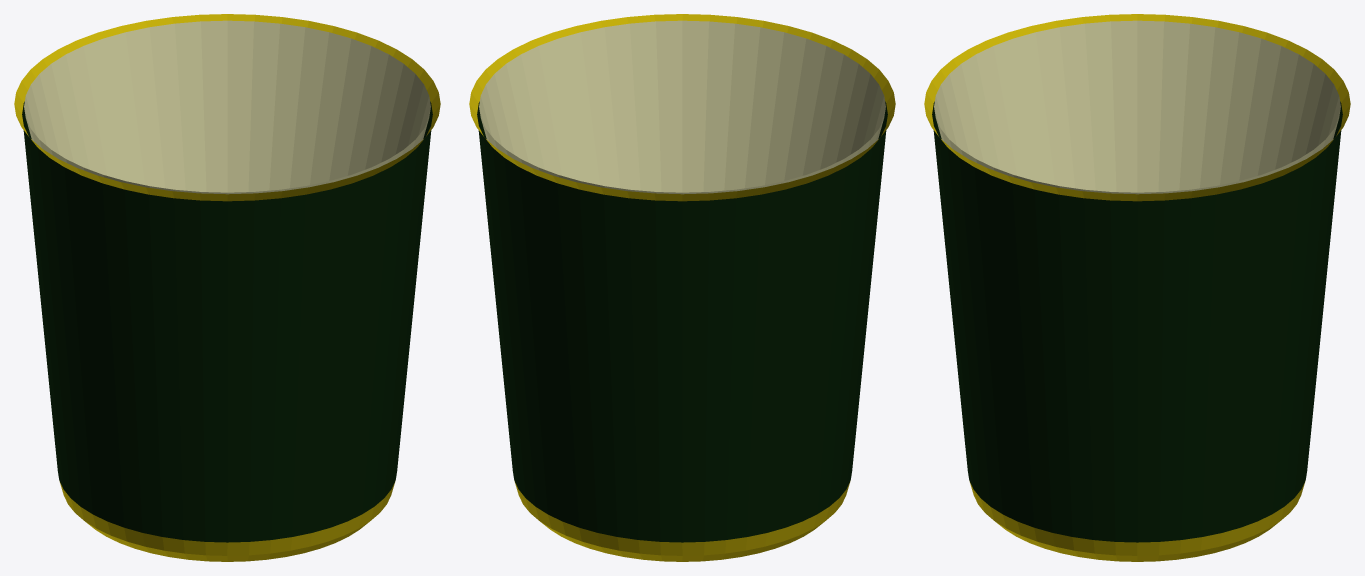
The model's file is cup.obj.
3 views of the same model, side by side, from view 1: azimuth 30°, elevation 25°; view 2: azimuth 150°, elevation 25°; view 3: azimuth 270°, elevation 25° (orthographic).
Visible parts, largest first — view 1: Torus; view 2: Torus; view 3: Torus.
Part boxes in pixels (box(x1,y1,x2,y2)): Torus: box(14, 14, 440, 561); Torus: box(469, 14, 895, 561); Torus: box(924, 14, 1350, 561).
Size of the model in its own units: 2.14 by 2.2 by 2.14.
